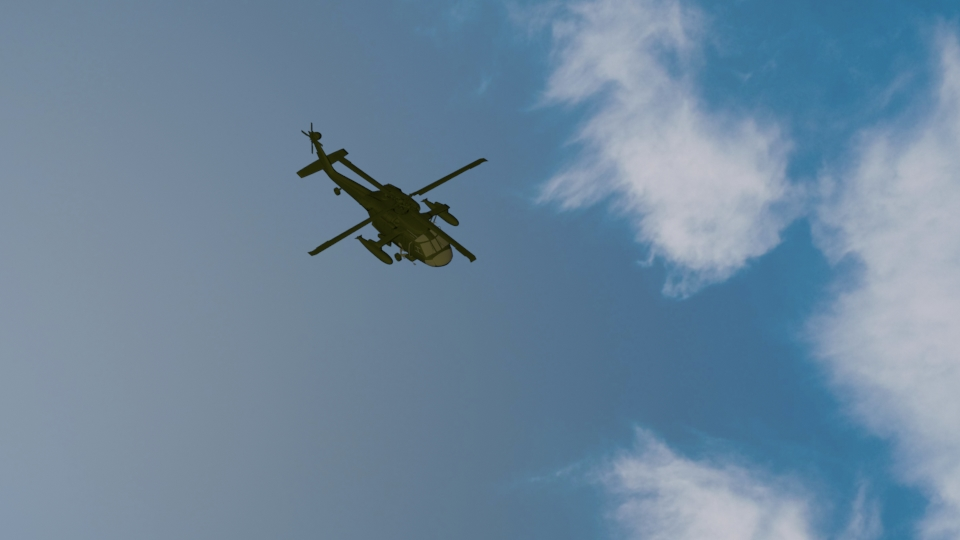heli: (296, 118, 487, 267)
